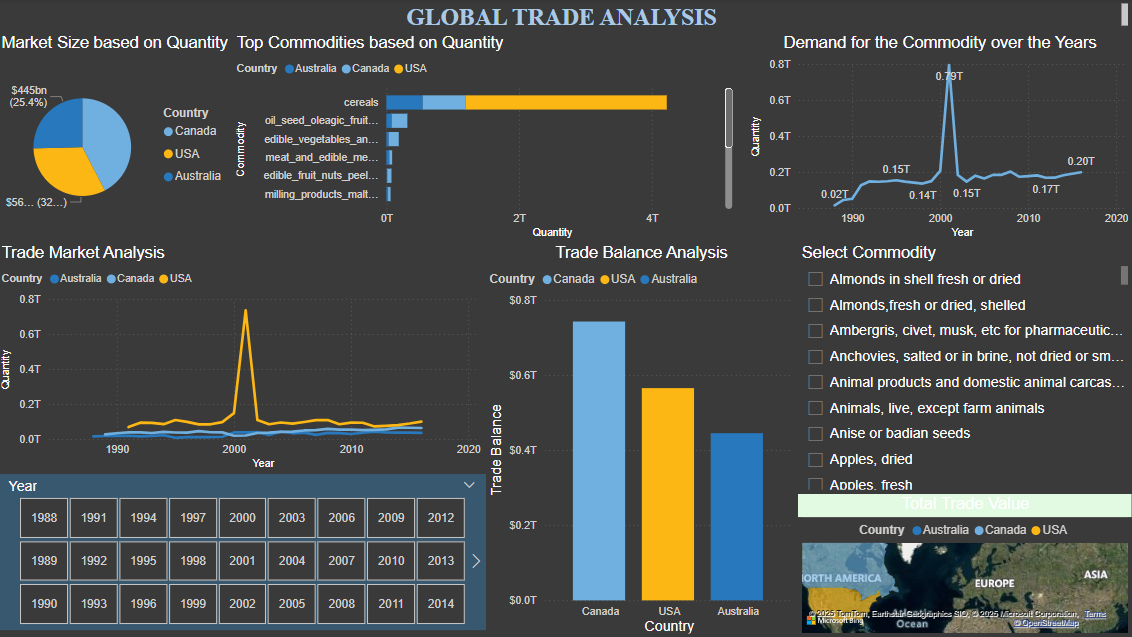

What the dashboard file says about the page in this screenshot:
{"tool":"powerbi","page":{"name":"Page 1","canvas":[1280,720],"ordinal":0},"visuals":[{"type":"pieChart","title":"Market Size based on Quantity","fields":{"Category":["Cleaned Data.country_or_area"],"Y":["Sum(Cleaned Data.trade_usd)"]},"box":[0,38.8,266.2,236.2],"z":0},{"type":"barChart","title":"Top Commodities based on Quantity","fields":{"Category":["Cleaned Data.category.2"],"Series":["Cleaned Data.country_or_area"],"Y":["Sum(Cleaned Data.weight_kg)"]},"box":[265,38.8,568.8,236.2],"z":1000},{"type":"lineChart","title":"Trade Market Analysis ","fields":{"Category":["Cleaned Data.year"],"Y":["Sum(Cleaned Data.weight_kg)"],"Series":["Cleaned Data.country_or_area"]},"box":[0,275,550,260],"z":2000},{"type":"columnChart","title":"Trade Balance Analysis","fields":{"Category":["Cleaned Data.Country"],"Y":["Sum(Cleaned Data.trade_usd)"],"Series":["Cleaned Data.Country"]},"box":[550,275,352.5,445],"z":3000},{"type":"slicer","fields":{"Values":["Cleaned Data.Year"]},"box":[0,535,551,176],"z":4000},{"type":"lineChart","title":"Demand for the Commodity over the Years","fields":{"Y":["Sum(Cleaned Data.weight_kg)"],"Category":["Cleaned Data.Year"]},"box":[845,38.8,435,236.2],"z":5000},{"type":"slicer","title":"Select Commodity","fields":{"Values":["Cleaned Data.commodity"]},"box":[901.7,275,378.3,283.3],"z":6000},{"type":"filledMap","title":"Total Trade Value ","fields":{"Category":["Cleaned Data.Country"],"Series":["Cleaned Data.Country"]},"box":[903,558,377,162],"z":7000},{"type":"textbox","box":[0,0,1280,38],"z":8000}]}

Visuals, with their boxes in screenshot pixels (x1, y1, x2, y2), scaled from the page's 1280x720 canvas onto the 1132x637 screenshot:
"Market Size based on Quantity" pieChart: x1=0, y1=34, x2=235, y2=243
"Top Commodities based on Quantity" barChart: x1=234, y1=34, x2=737, y2=243
"Trade Market Analysis " lineChart: x1=0, y1=243, x2=486, y2=473
"Trade Balance Analysis" columnChart: x1=486, y1=243, x2=798, y2=636
slicer - Cleaned Data.Year: x1=0, y1=473, x2=487, y2=629
"Demand for the Commodity over the Years" lineChart: x1=747, y1=34, x2=1131, y2=243
"Select Commodity" slicer: x1=797, y1=243, x2=1131, y2=494
"Total Trade Value " filledMap: x1=799, y1=494, x2=1131, y2=636
textbox: x1=0, y1=0, x2=1131, y2=34
